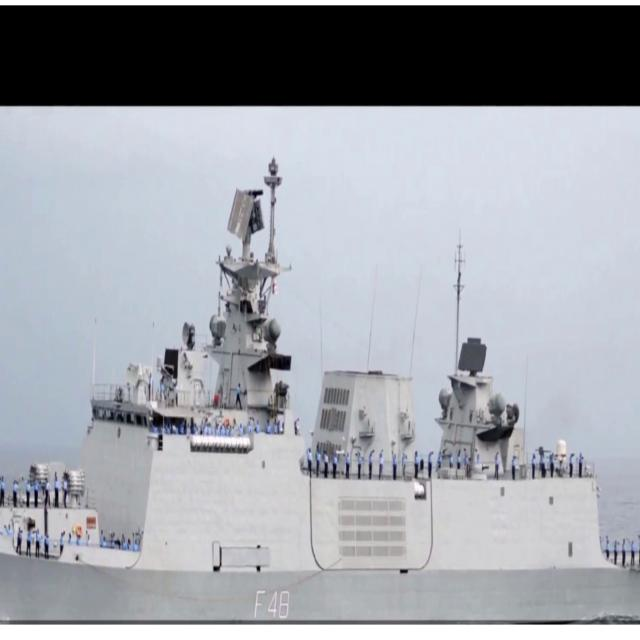OCR: (244, 586, 297, 623)
